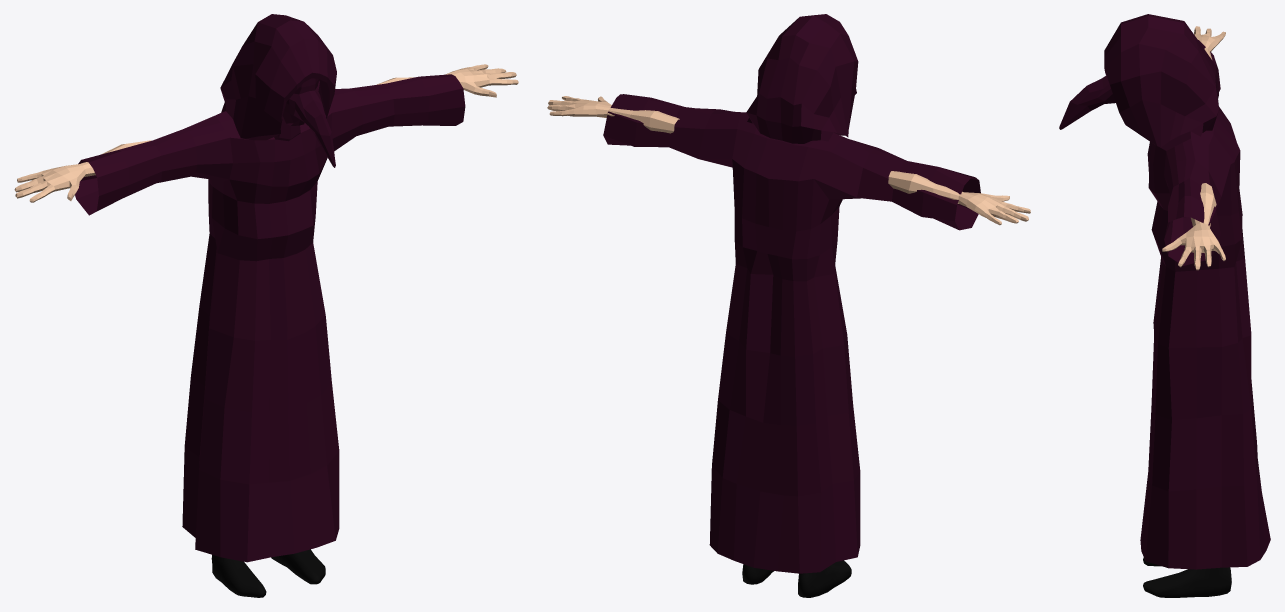
The model's file is Npc_hoodie.FBX.
The picture shows the model from 3 angles, left to right: view 1: azimuth 30°, elevation 25°; view 2: azimuth 150°, elevation 25°; view 3: azimuth 270°, elevation 25°; orthographic projection. The views are drawn at different scales.
Visible parts, largest first — view 1: body, hood, Hands, Feet; view 2: body, hood, Hands, Feet; view 3: body, hood, Hands, Feet.
Part boxes in pixels (box(x1,y1,x2,y2)): body: box(75, 74, 465, 562); hood: box(220, 14, 336, 140); Hands: box(14, 64, 518, 202); Feet: box(211, 549, 325, 597); body: box(603, 89, 980, 573); hood: box(746, 14, 858, 143); Hands: box(547, 96, 1030, 225); Feet: box(742, 560, 851, 597); body: box(1059, 40, 1270, 569); hood: box(1104, 14, 1218, 147); Hands: box(1162, 26, 1225, 270); Feet: box(1143, 557, 1231, 597).
Size of the model in its own units: 196 by 213 by 72.65.
